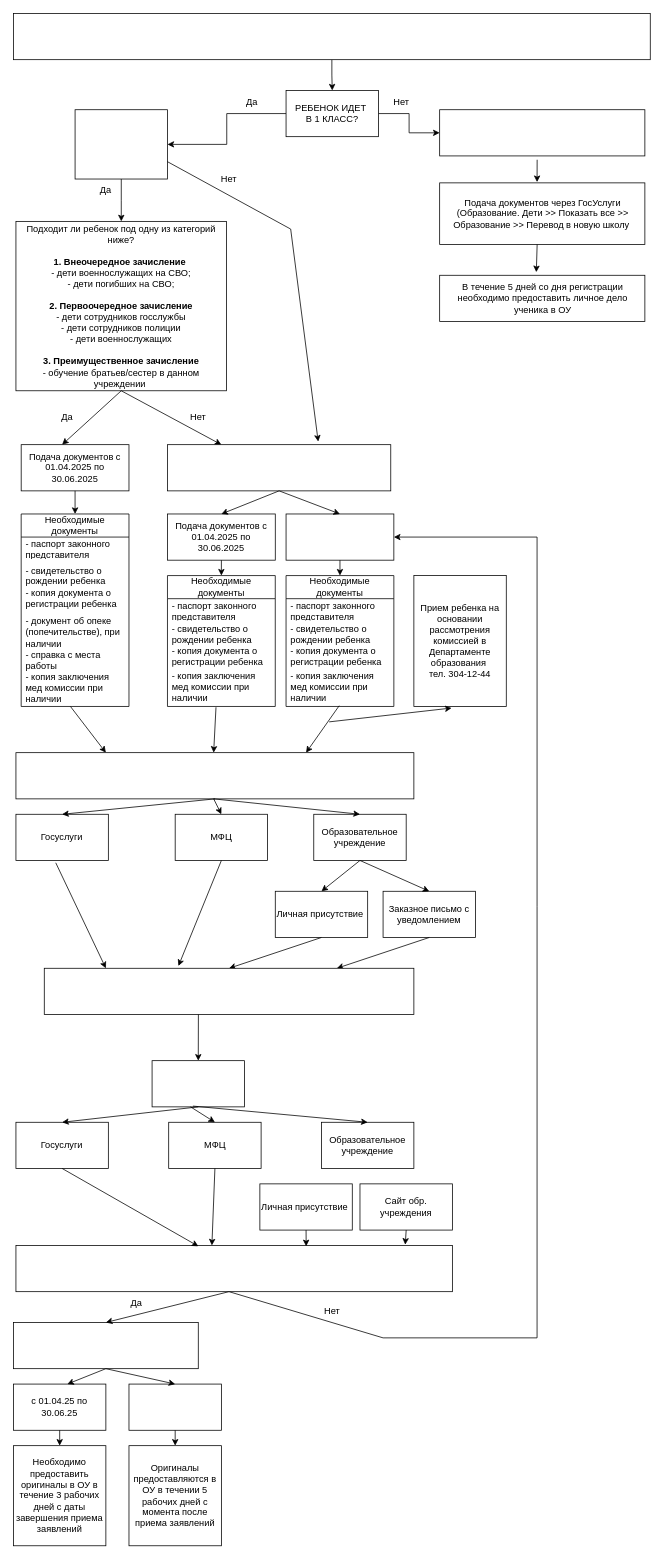
This 664x1559 diagram has some shape labels left out. The shapes that lost their labels are listed below. From the top down, each one's centre as x and y in pixels, then its label:
point 331,36: ЗАПИСЬ В ШКОЛУ
point 120,144: Возраст ребенка на 01.09.2025 составляется от 6 лет и 6 месяцев до 8 лет?
point 542,132: Прием документов начинается 01.06.2025
point 279,467: Привязка территории прописки к обр. учреждению
point 339,536: Подача документов с 06.07.2025 по 05.09.2025
point 214,775: Выберите способ подачи документов
point 229,991: Регистрация заявления в ГИС "Единое цифровое пространство"
point 197,1083: Проверка стадии заявления
point 233,1268: Ребенок принят в школу?
point 105,1345: Дата принятия заявления
point 174,1406: с 06.07.25 по 05.09.25
